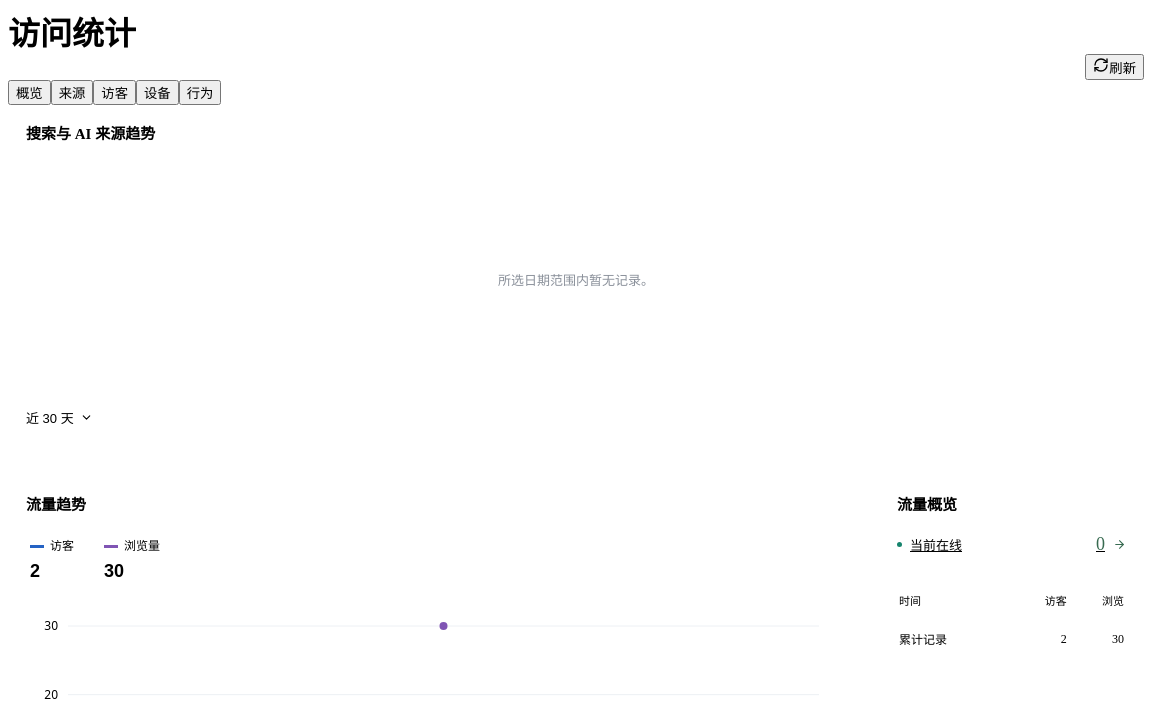
Test: keeps the native report groups and avoids loading every report into the overview
This screenshot has width=1152, height=720.
Expected: the number of elements with class "analytics-date-menu" is 1, [26,402,93,434]
Click the tab "来源" at (72,92), box [51,80,93,105]
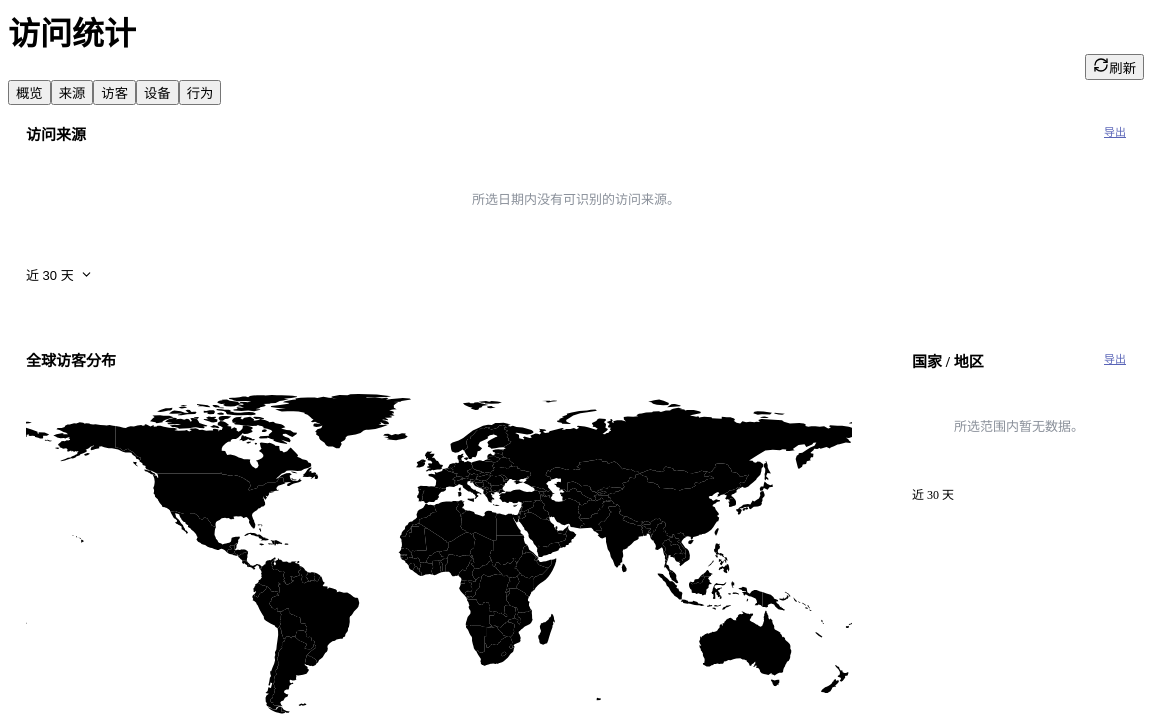
Expected: the number of elements with class "analytics-date-menu" is 1, [26,258,93,290]
Expected: the text "搜索与 AI 来源趋势" is gone
Expected: the text "全球访客分布" is shown, [26,350,116,372]
Click the tab "设备" at (157,92), box [136,80,179,105]
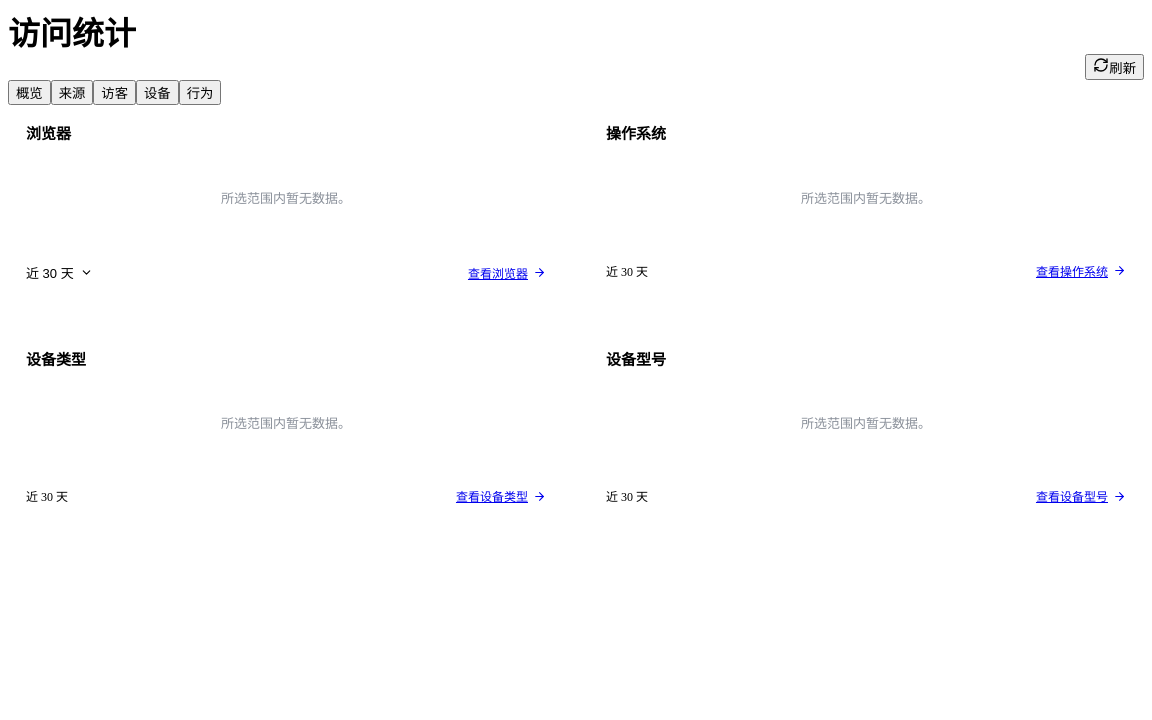
Expected: the number of elements with class "analytics-date-menu" is 1, [26,256,93,288]
Click the tab "访客" at (115,92), box [93,80,136,105]
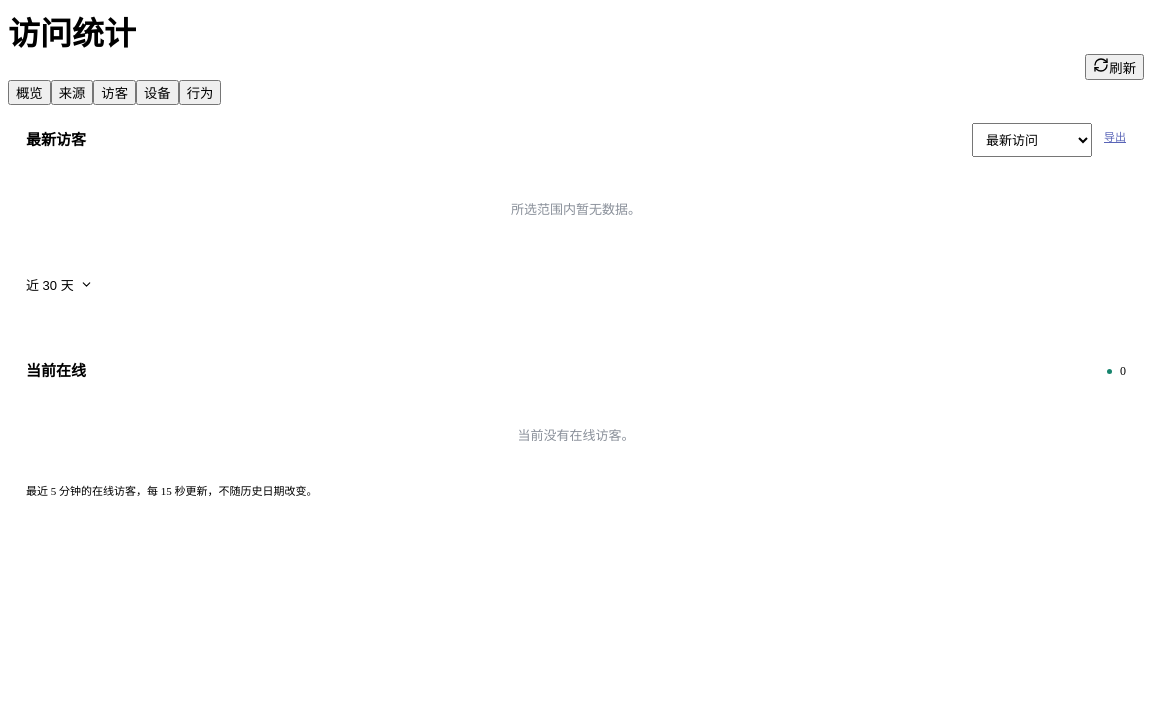
Expected: the number of elements with class "analytics-date-menu" is 1, [26,268,93,300]
Expected: the text "最新访客" is shown, [26,129,86,151]
Expected: the text "当前在线" is shown, [26,360,86,382]
Click the tab "行为" at (200,92), box [179,80,221,105]
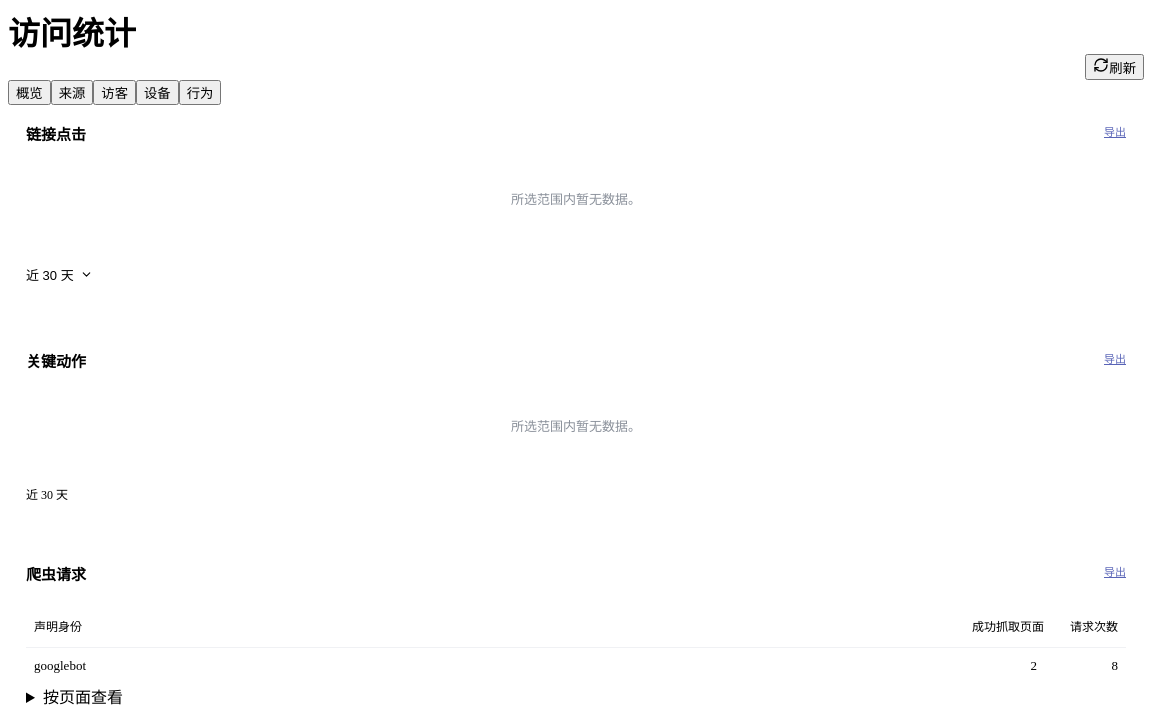
Expected: the number of elements with class "analytics-date-menu" is 1, [26,258,93,290]
Expected: the heading "按页面查看" is shown, [43,689,123,706]
